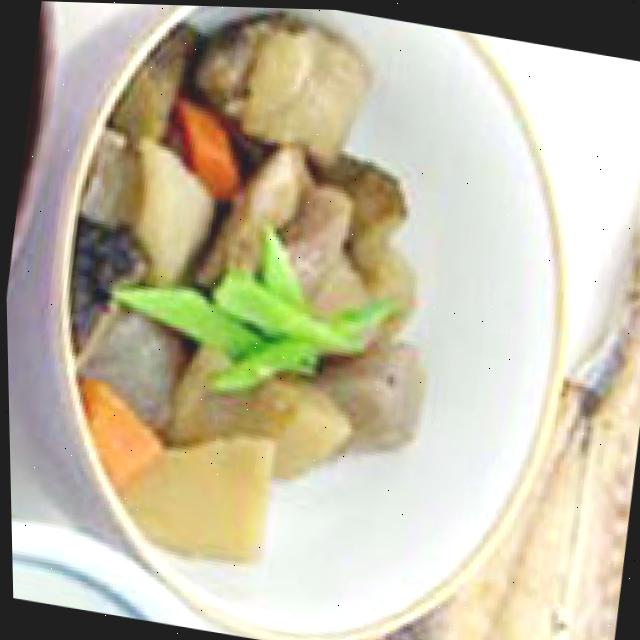鸡肉料理 含炸鸡: (21, 0, 538, 591)
